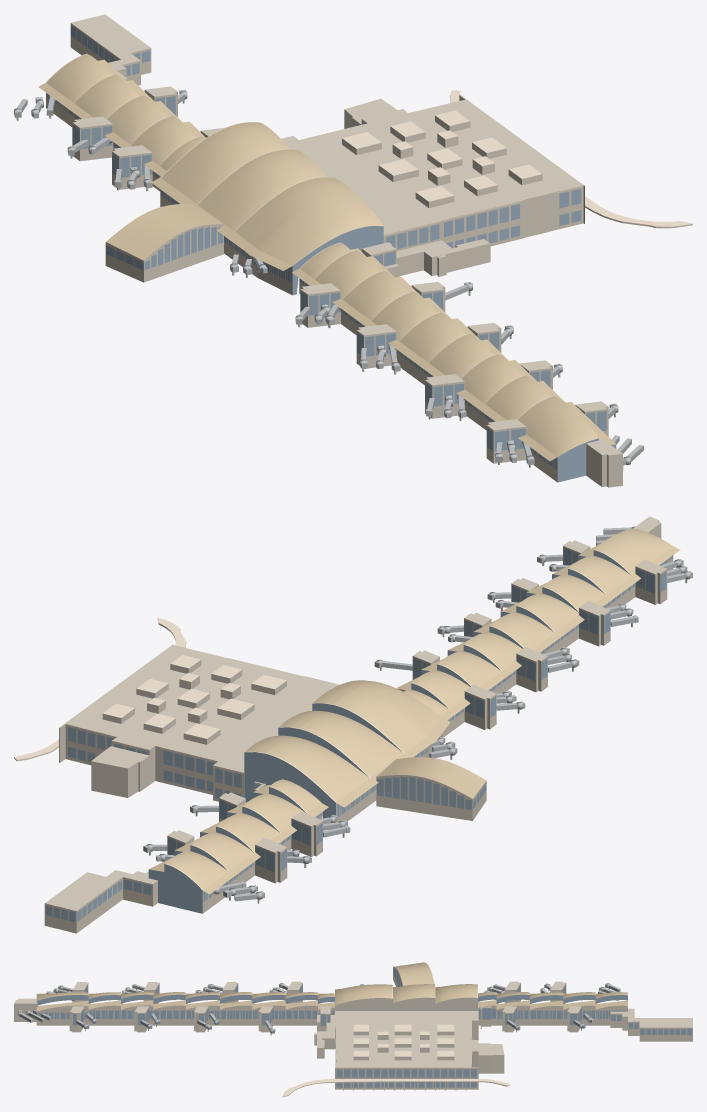
The model's file is la-lax-tom-bradley-terminal.detail.glb.
3 views of the same model, one above another, from view 1: azimuth 30°, elevation 25°; view 2: azimuth 150°, elevation 25°; view 3: azimuth 270°, elevation 25° (orthographic). The views are drawn at different scales.
Visible parts, largest first — view 1: Tom Bradley International Terminal; view 2: Tom Bradley International Terminal; view 3: Tom Bradley International Terminal.
Part boxes in pixels (x1,y1,x2,y2): Tom Bradley International Terminal: [14, 14, 692, 487]; Tom Bradley International Terminal: [14, 516, 692, 933]; Tom Bradley International Terminal: [14, 962, 692, 1097].
Bounding box in the file's own units: 364 × 48.78 × 797.
